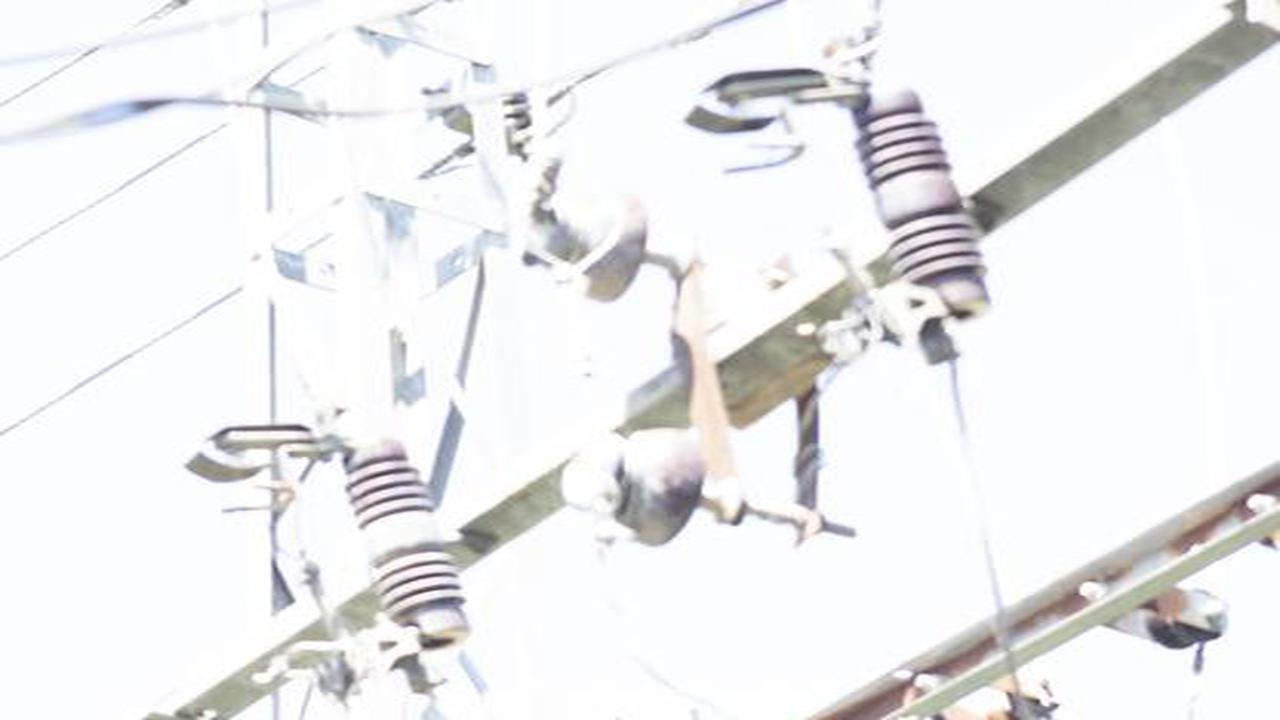insulator_pin: (556, 413, 708, 555), (513, 176, 655, 308)
